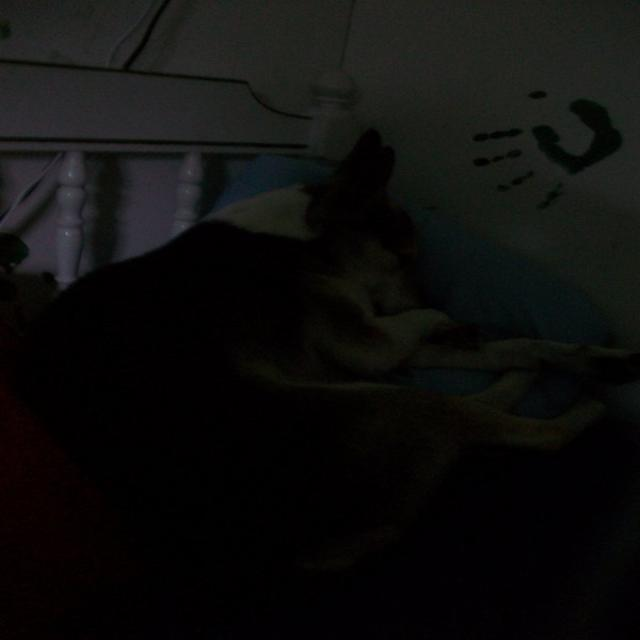Dog: (42, 142, 452, 612)
